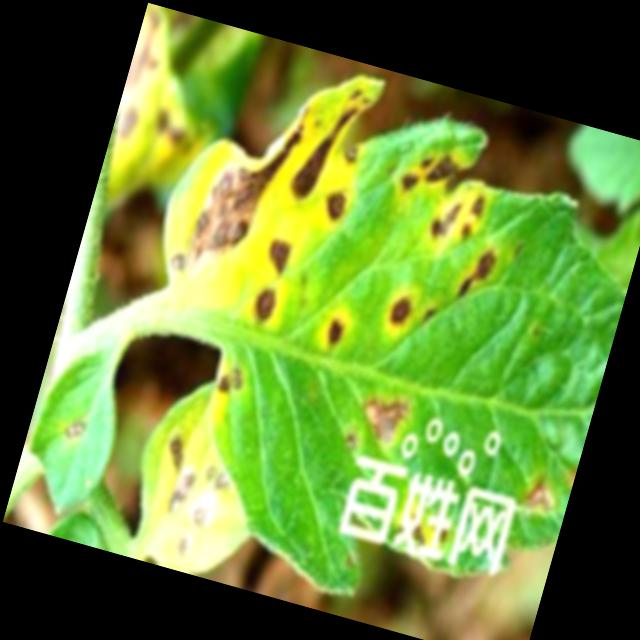Early_blight: (166, 74, 313, 300), (286, 78, 375, 210), (394, 139, 479, 215), (147, 431, 205, 519), (421, 184, 487, 254), (352, 386, 416, 451), (450, 239, 502, 308), (391, 508, 453, 553), (315, 178, 361, 233), (256, 226, 299, 281), (379, 283, 417, 337), (519, 474, 563, 518), (242, 283, 284, 329), (209, 357, 247, 402), (183, 489, 218, 533), (169, 527, 198, 564), (323, 317, 349, 349), (61, 417, 87, 441)
